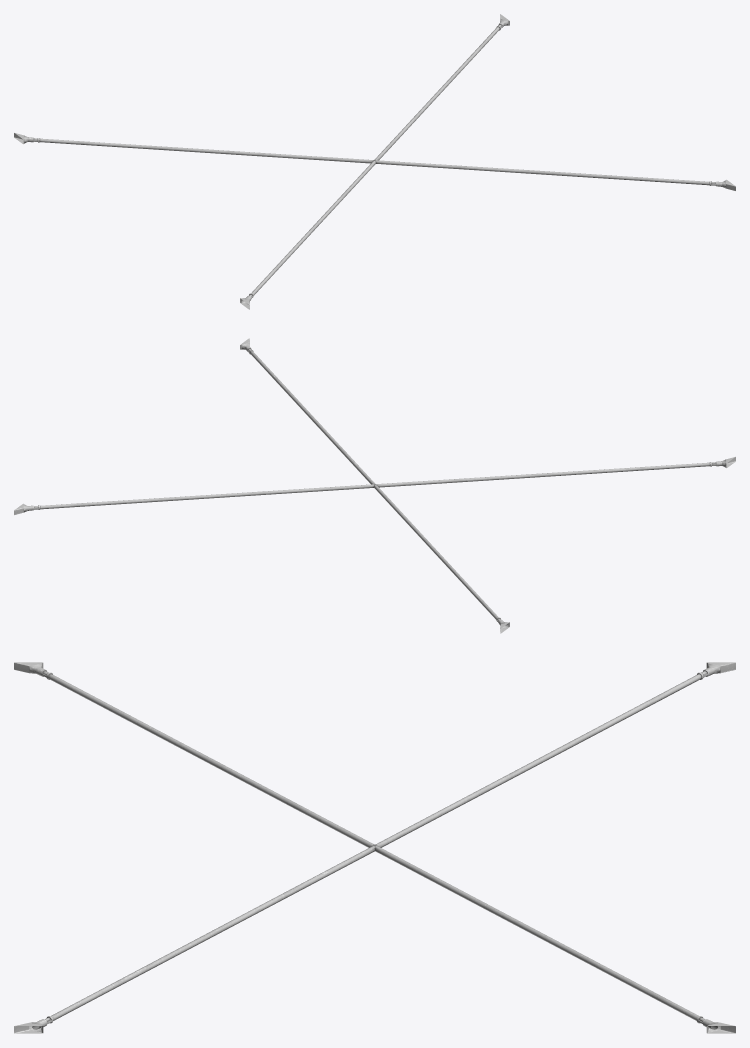
File: CeilingReinforcing.FBX
The picture shows the model from 3 angles, top to bottom: view 1: azimuth 30°, elevation 25°; view 2: azimuth 150°, elevation 25°; view 3: azimuth 270°, elevation 25°; orthographic projection. The views are drawn at different scales.
Parts seen in each view (by area): view 1: CeilingReinforcing; view 2: CeilingReinforcing; view 3: CeilingReinforcing.
Part boxes in pixels (x1,y1,x2,y2): CeilingReinforcing: [14, 14, 735, 309]; CeilingReinforcing: [14, 338, 735, 633]; CeilingReinforcing: [14, 662, 735, 1033].
Bounding box in the file's own units: 595 × 5.79 × 499.
